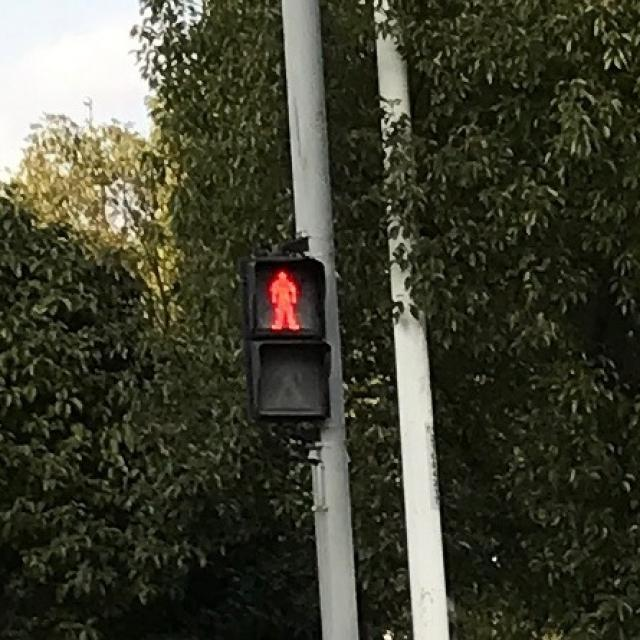red-crossing: (262, 266, 300, 332)
